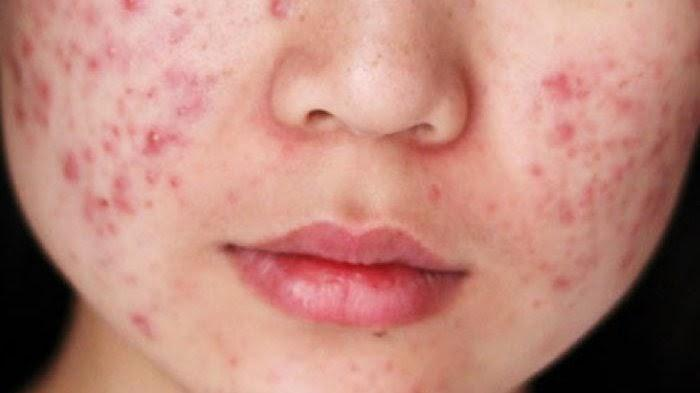Acne: (0, 2, 296, 236), (524, 18, 700, 314), (122, 308, 159, 340), (424, 179, 447, 214)
